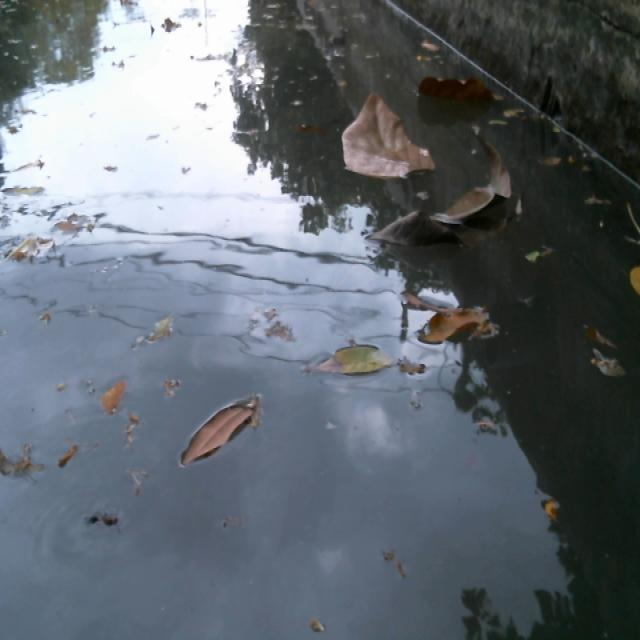Big-leaf: (365, 143, 518, 257), (340, 93, 436, 184), (409, 288, 495, 357), (419, 69, 505, 107)
Small-leaf: (178, 397, 265, 478), (308, 338, 394, 383), (592, 347, 635, 392), (100, 373, 130, 416), (585, 315, 618, 351), (626, 249, 640, 302), (417, 34, 442, 61), (535, 150, 564, 172), (524, 246, 545, 272), (502, 105, 529, 123)
